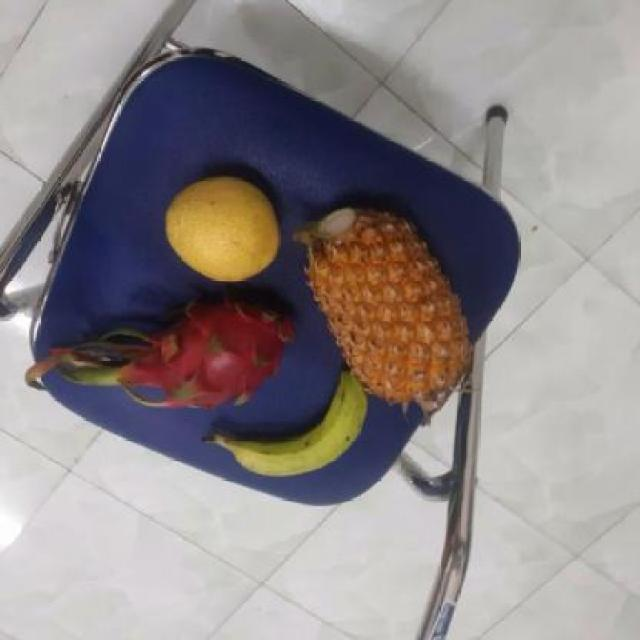banana: (218, 373, 374, 478)
dragon fruit: (111, 290, 302, 408)
pear: (160, 172, 285, 279)
pineapple: (292, 206, 476, 403)
